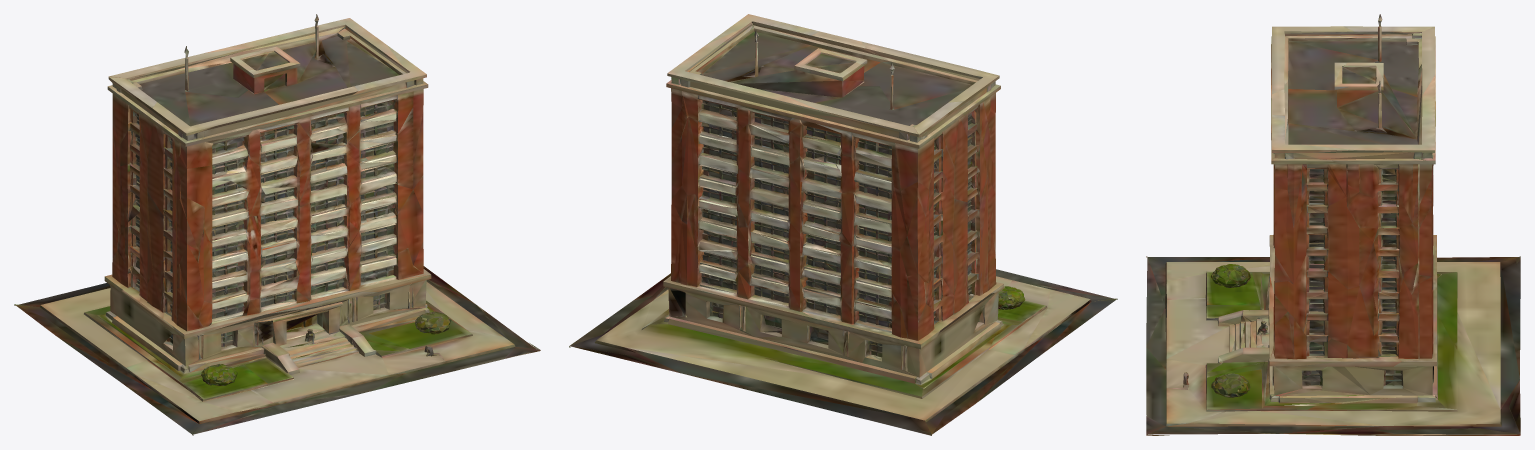
Rendered from town_offices_tall.glb.
The picture shows the model from 3 angles, left to right: view 1: azimuth 30°, elevation 25°; view 2: azimuth 150°, elevation 25°; view 3: azimuth 270°, elevation 25°; orthographic projection. The views are drawn at different scales.
Parts seen in each view (by area): view 1: normalize; view 2: normalize; view 3: normalize.
Part boxes in pixels (x1=…): normalize: x1=14, y1=14, x2=540, y2=435; normalize: x1=569, y1=14, x2=1117, y2=435; normalize: x1=1146, y1=14, x2=1520, y2=435.
Size of the model in its own units: 1 by 0.7777 by 0.8872.
1 material, 1 textured.
